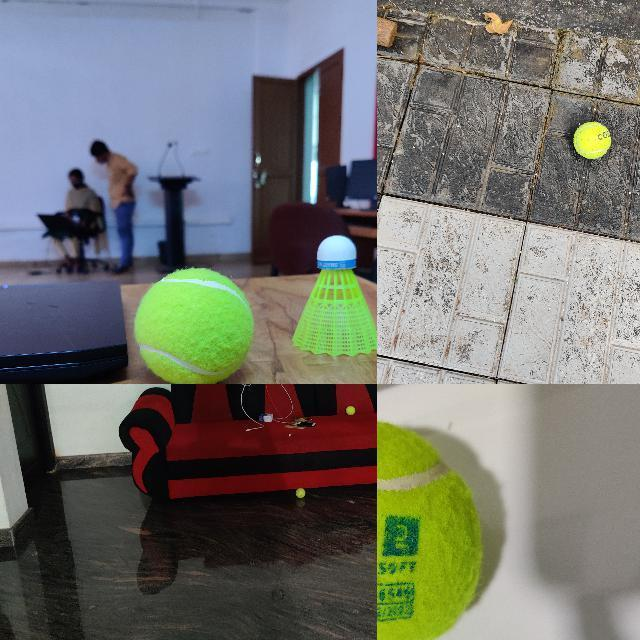tennis-ball: (377, 417, 486, 639), (134, 269, 253, 383), (572, 121, 612, 159), (295, 488, 305, 498), (345, 406, 355, 414)
